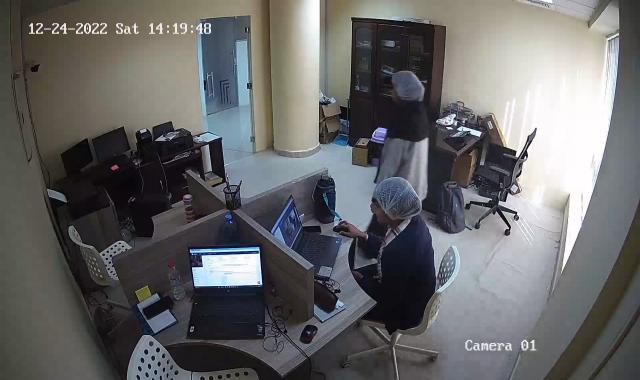hairnet: (370, 178, 420, 224), (391, 68, 426, 103)
